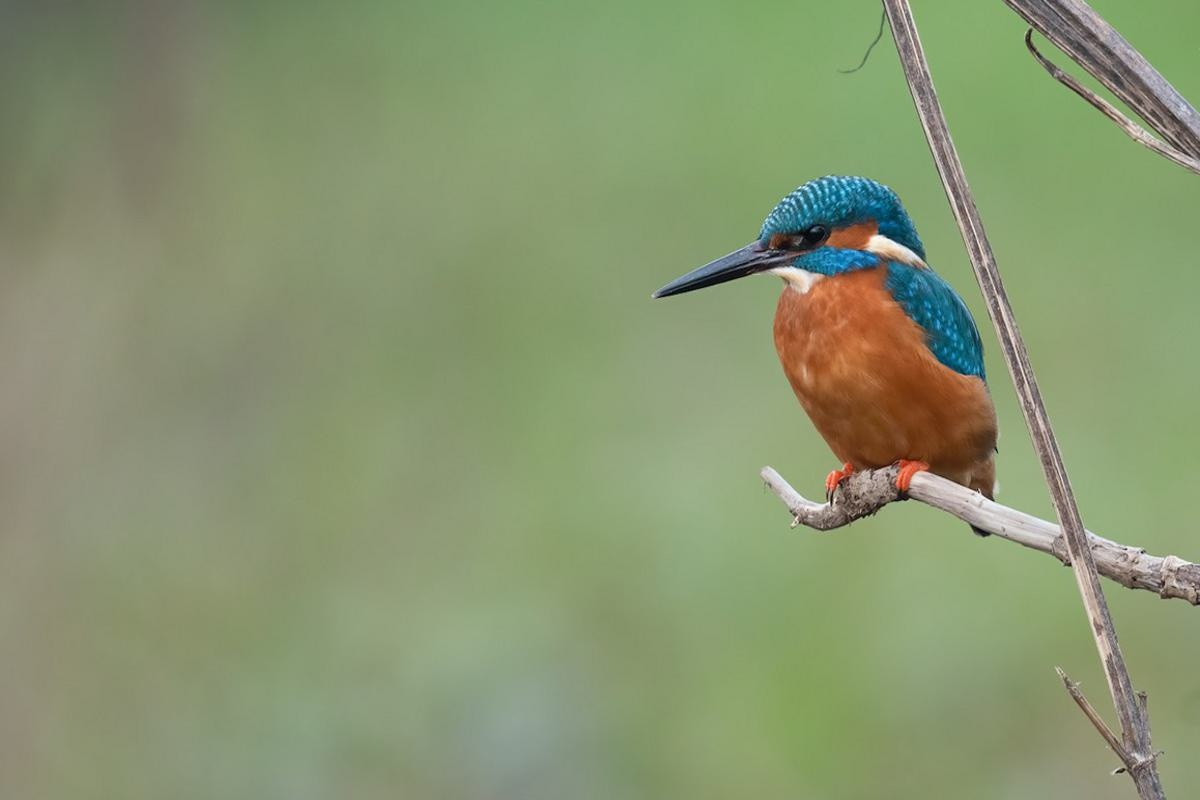kingfisher: (653, 154, 998, 523)
